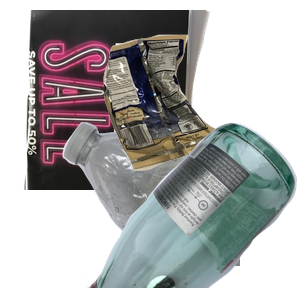glass: (86, 120, 300, 300)
paper: (22, 10, 225, 190)
plastic: (60, 120, 300, 300)
trash: (101, 32, 300, 195)
